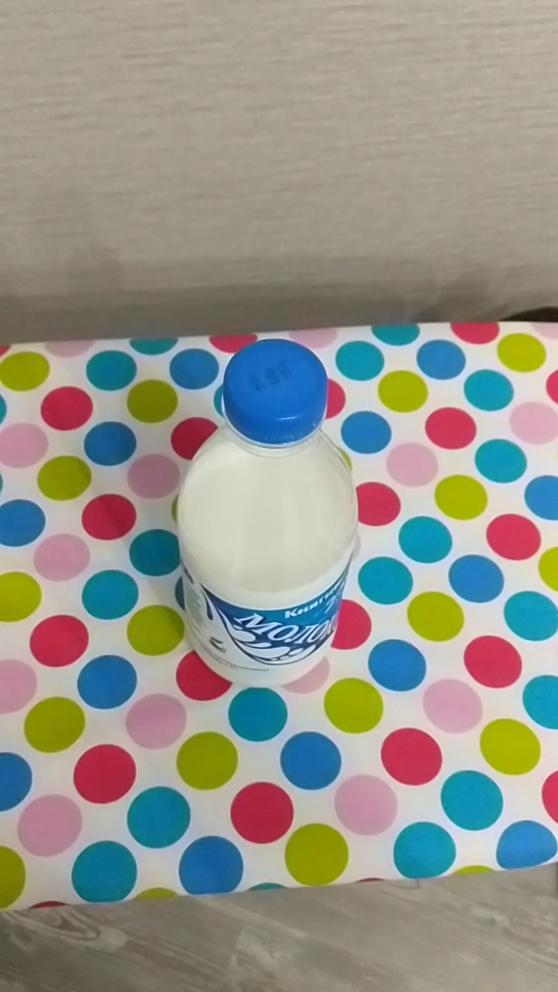milk: (155, 328, 375, 709)
